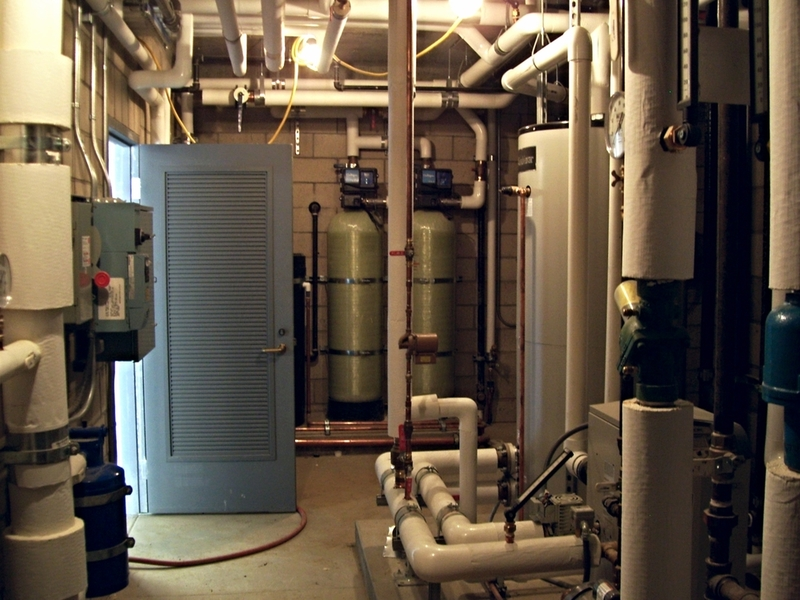valve: (382, 239, 425, 271), (397, 460, 426, 505), (389, 420, 414, 457), (365, 102, 379, 137)
